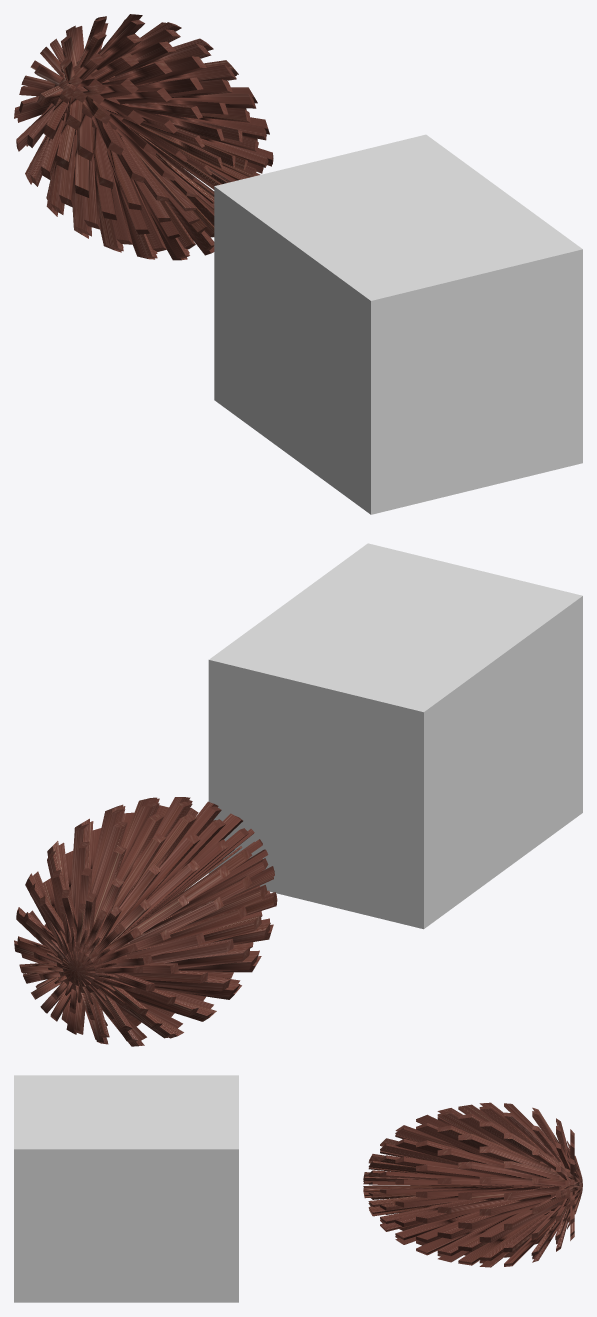
The model's file is Szyszka2.FBX.
The picture shows the model from 3 angles, top to bottom: view 1: azimuth 30°, elevation 25°; view 2: azimuth 150°, elevation 25°; view 3: azimuth 270°, elevation 25°; orthographic projection. The views are drawn at different scales.
Parts seen in each view (by area): view 1: BoundingBox, Sphere004; view 2: BoundingBox, Sphere004; view 3: BoundingBox, Sphere004.
Part boxes in pixels (box(x1,y1,x2,y2)): BoundingBox: box(214, 134, 582, 514); Sphere004: box(14, 14, 273, 260); BoundingBox: box(208, 543, 582, 929); Sphere004: box(14, 797, 277, 1046); BoundingBox: box(14, 1075, 238, 1302); Sphere004: box(363, 1102, 582, 1267).
Bounding box in the file's own units: 34.04 × 32.89 × 110.
1 material, 1 textured.
